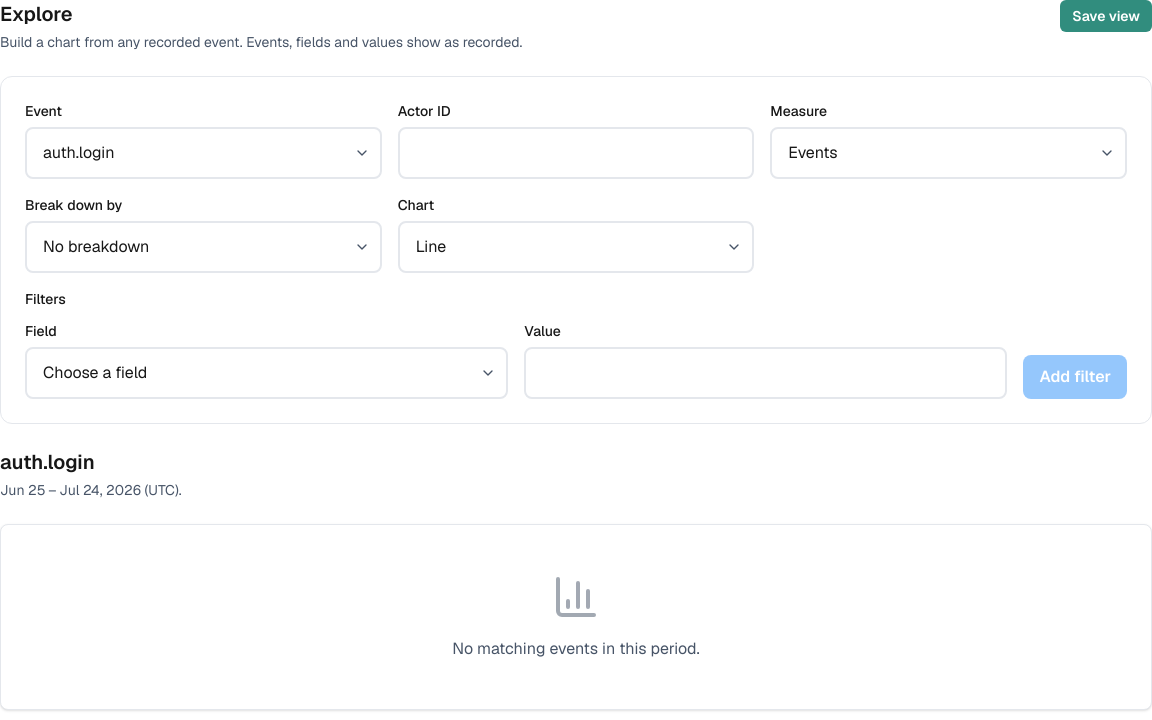
it: ExplorePage › says when the name is taken
The image size is (1152, 720).
Click the button "Save view". click: (1106, 16)
box: x1=1060 y1=0 x2=1151 y2=32
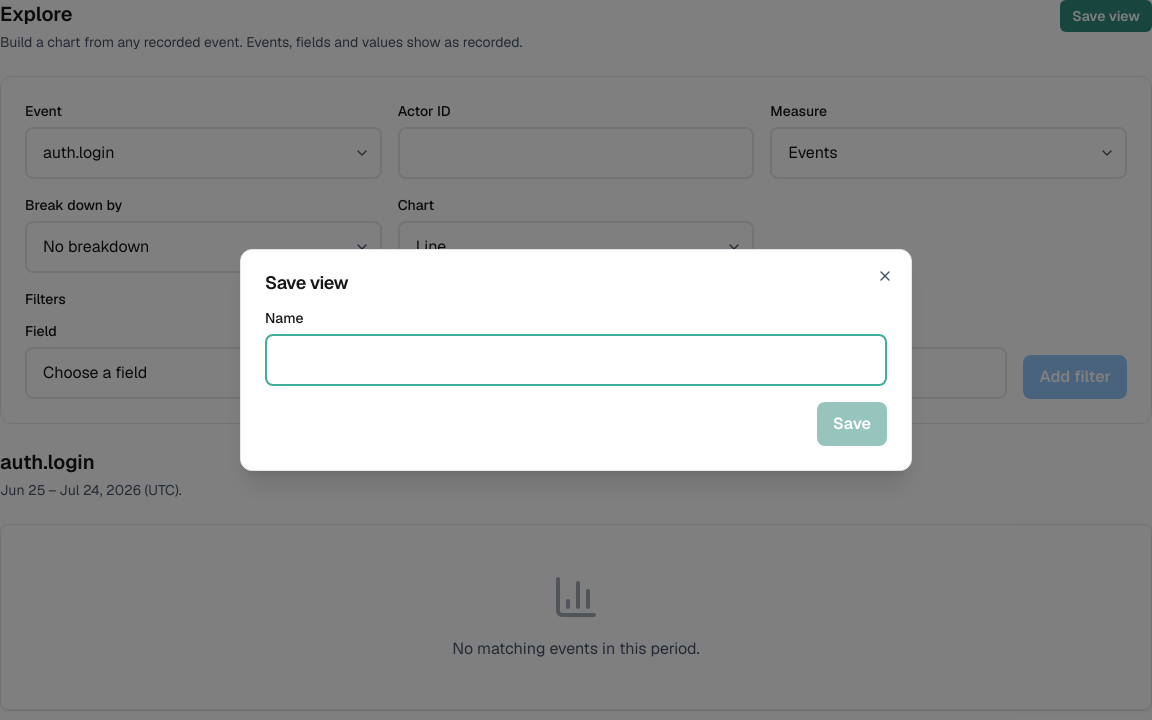
Type "Logins" into the field labelled "Name". click: (576, 360)
box: x1=265 y1=334 x2=887 y2=386
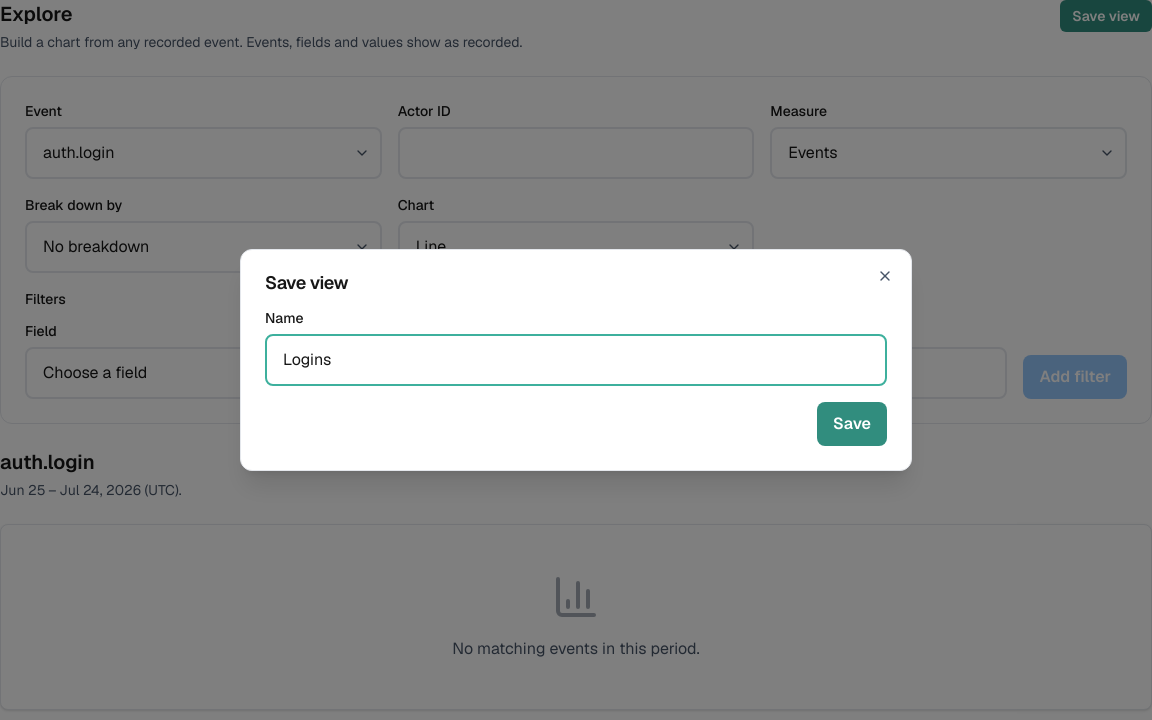
Click the button "Save". click: (852, 424)
box: x1=817 y1=402 x2=887 y2=446
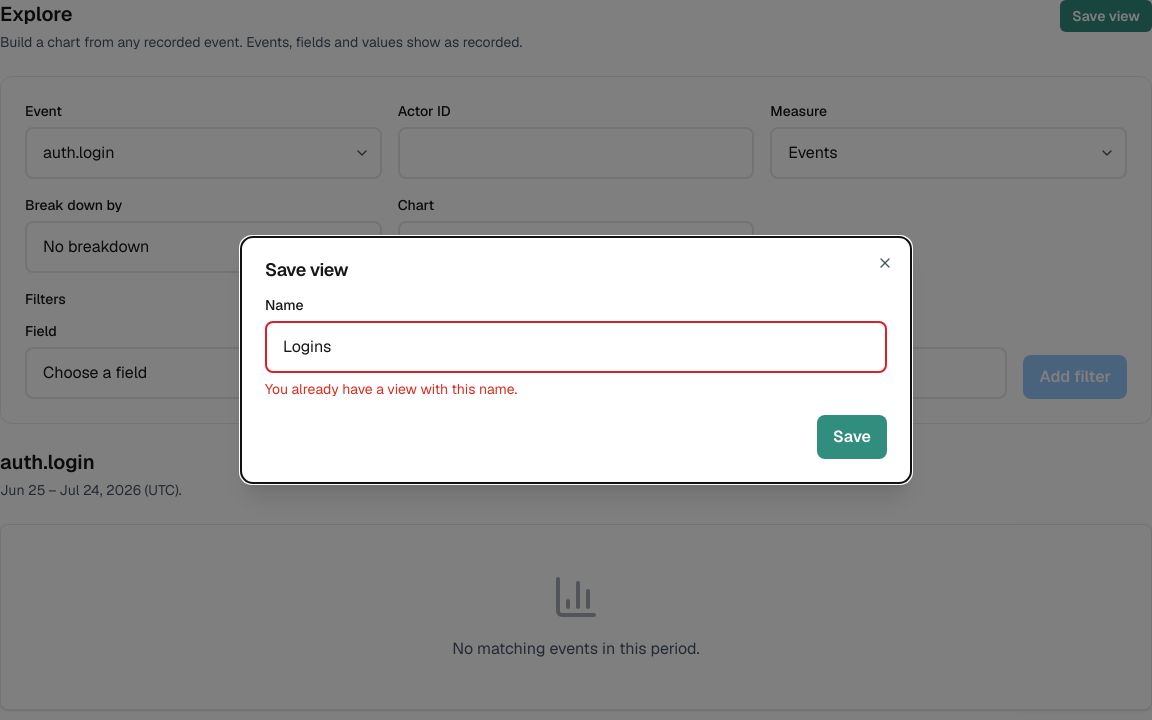
Expected: the text "You already have a view with this name." is shown, x1=265 y1=380 x2=517 y2=398
